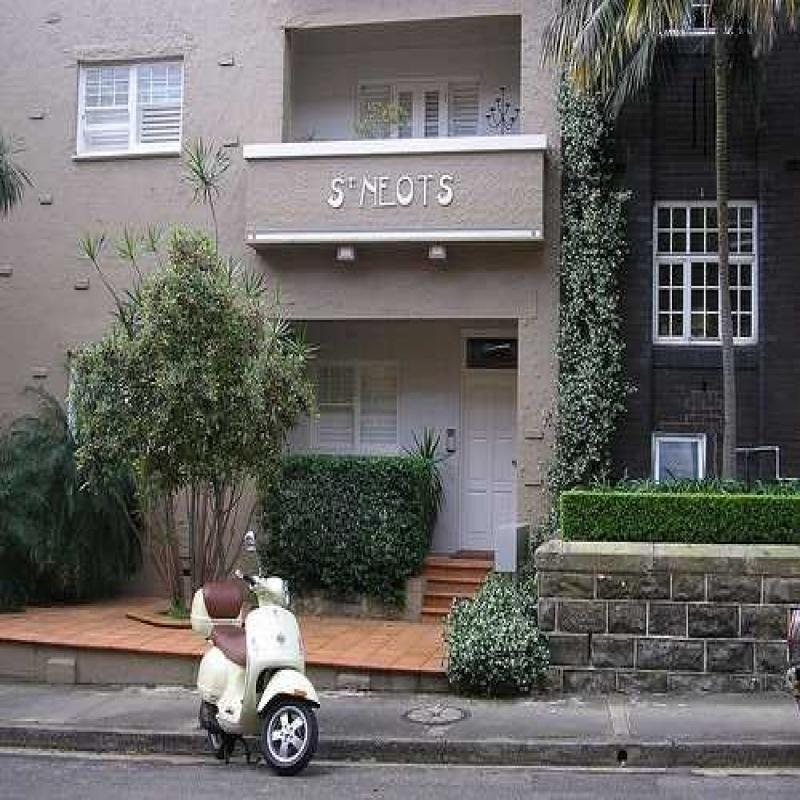bike: (196, 535, 332, 800)
